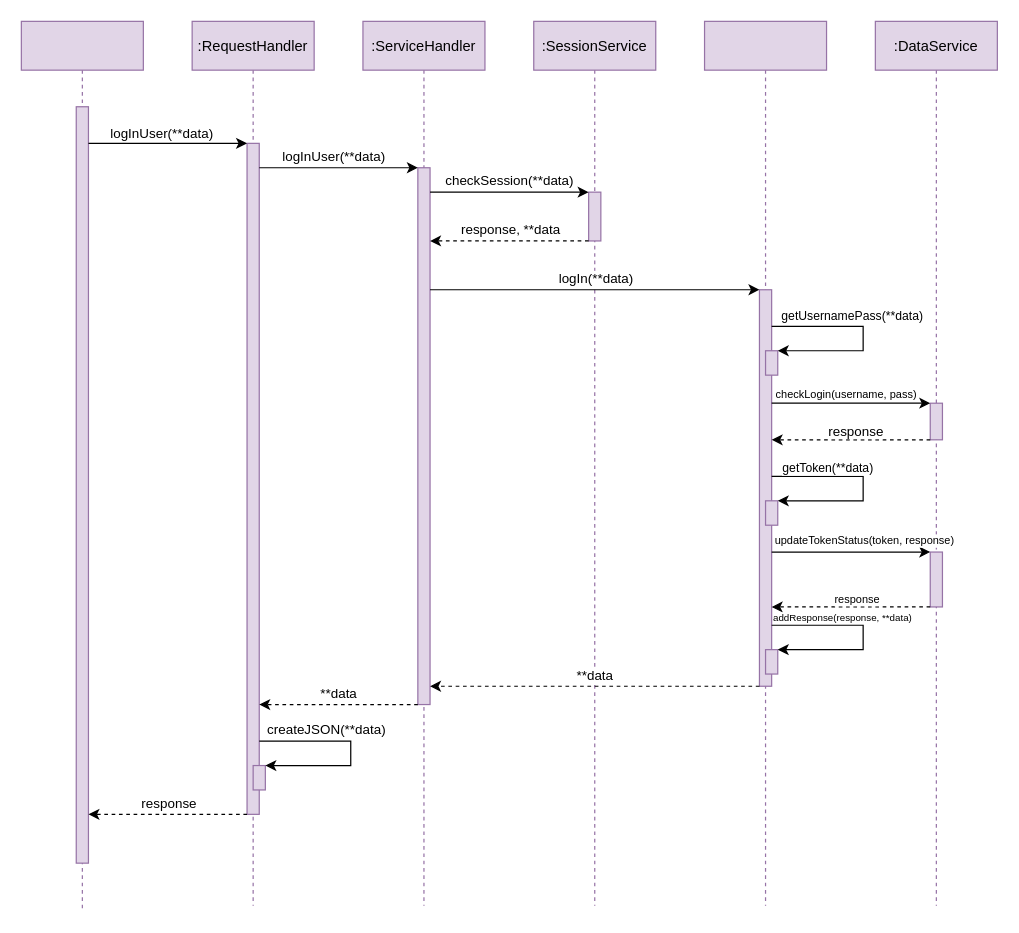
Image size: 1019x933. Some labels were removed from this diagram. Here are the shapes that lost their labels. From the top down, the box of each, then its label:
(20, 20, 143, 912): :EndUserApp
(703, 20, 827, 906): :LogInService
